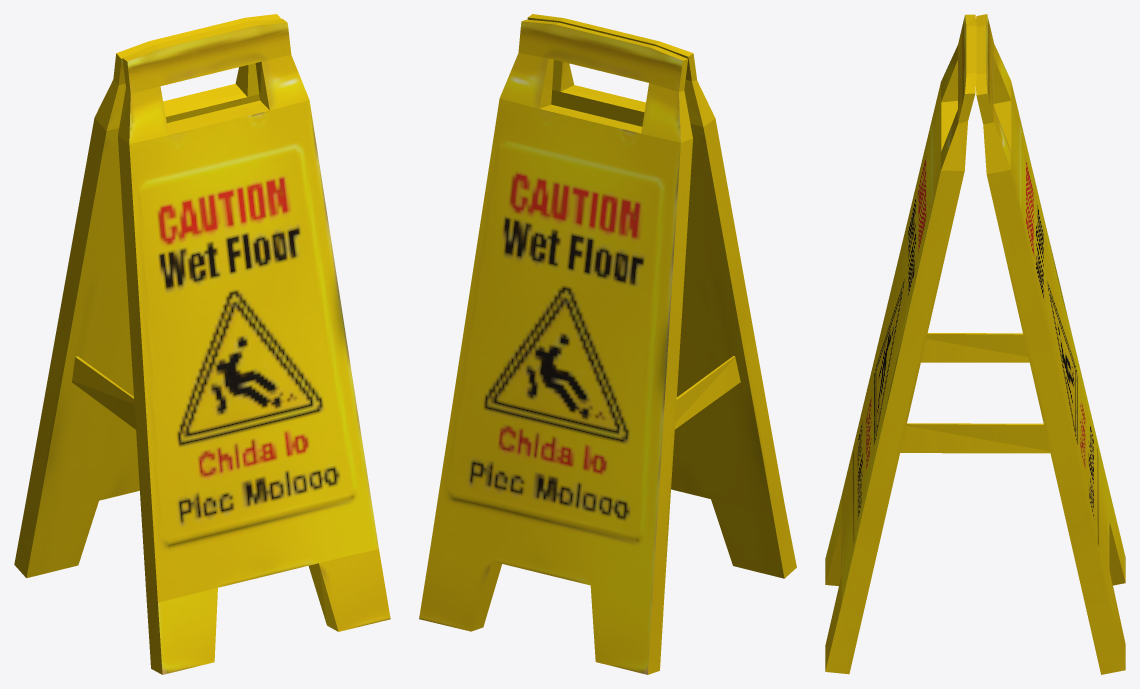
The model's file is Wet_floor_sign.dae.
The picture shows the model from 3 angles, left to right: view 1: azimuth 30°, elevation 25°; view 2: azimuth 150°, elevation 25°; view 3: azimuth 270°, elevation 25°; orthographic projection.
Parts seen in each view (by area): view 1: Wet_floor_sign; view 2: Wet_floor_sign; view 3: Wet_floor_sign.
Boxes of the visible parts, <box> form: Wet_floor_sign: <box>14,14,390,674</box>; Wet_floor_sign: <box>419,14,796,674</box>; Wet_floor_sign: <box>825,14,1125,674</box>.
Bounding box in the file's own units: 0.3997 × 0.4502 × 0.9416.
1 material, 1 textured.
